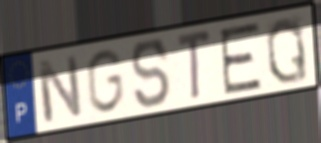E: (218, 19, 264, 97)
G: (84, 47, 126, 116)
N: (34, 53, 85, 126)
Q: (263, 15, 310, 87)
S: (129, 37, 173, 111)
T: (175, 26, 214, 104)
